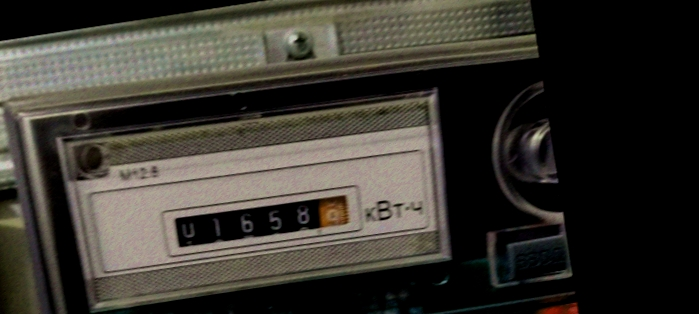0: (177, 217, 197, 240)
1: (207, 213, 224, 239)
5: (264, 206, 284, 232)
6: (236, 209, 257, 236)
8: (292, 202, 312, 226)
9: (322, 206, 341, 229)
screen: (156, 177, 369, 265)
